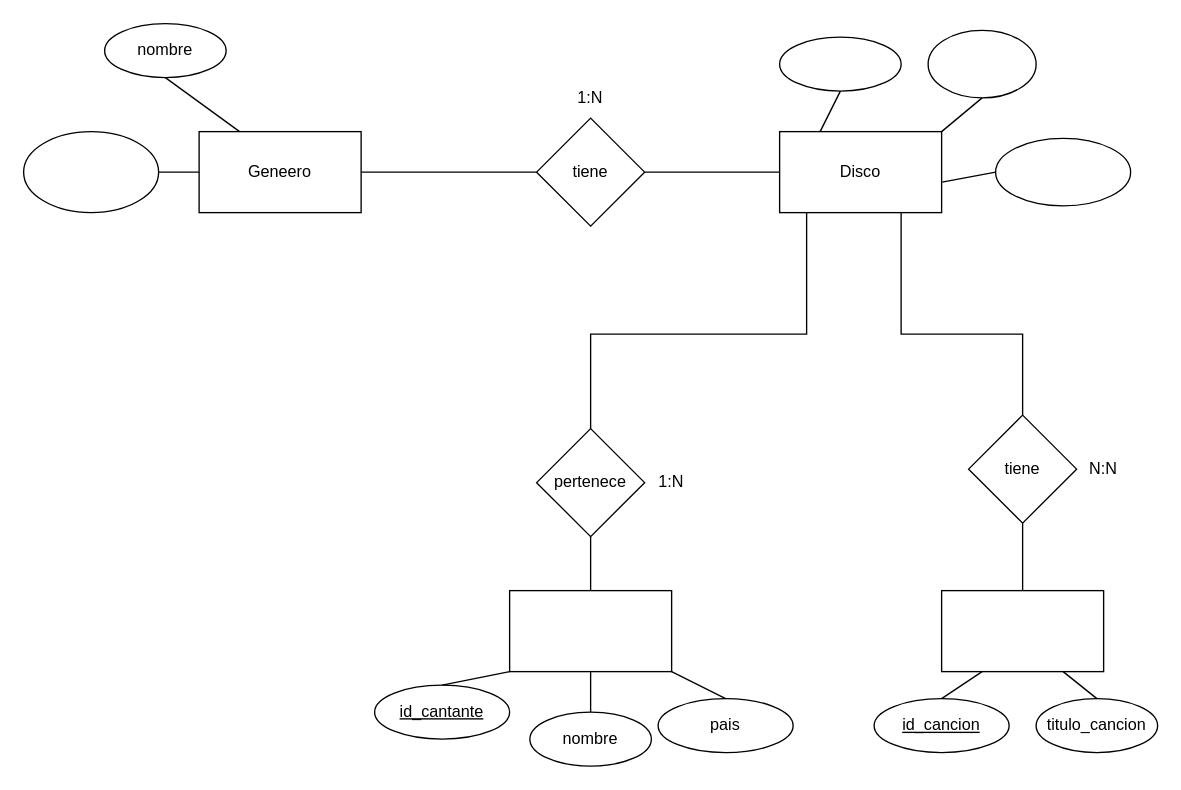
Image size: 1181x790. Some labels were removed from this diagram. The shapes that lost their labels are listed below. From the top down, each one's centre as x and y in pixels, then its label:
At point (839, 63): "titulo".
At point (981, 63): "precio".
At point (90, 171): "id_genero".
At point (1062, 171): "id_disco".
At point (590, 630): "Cantante".
At point (1022, 630): "Cancion".
